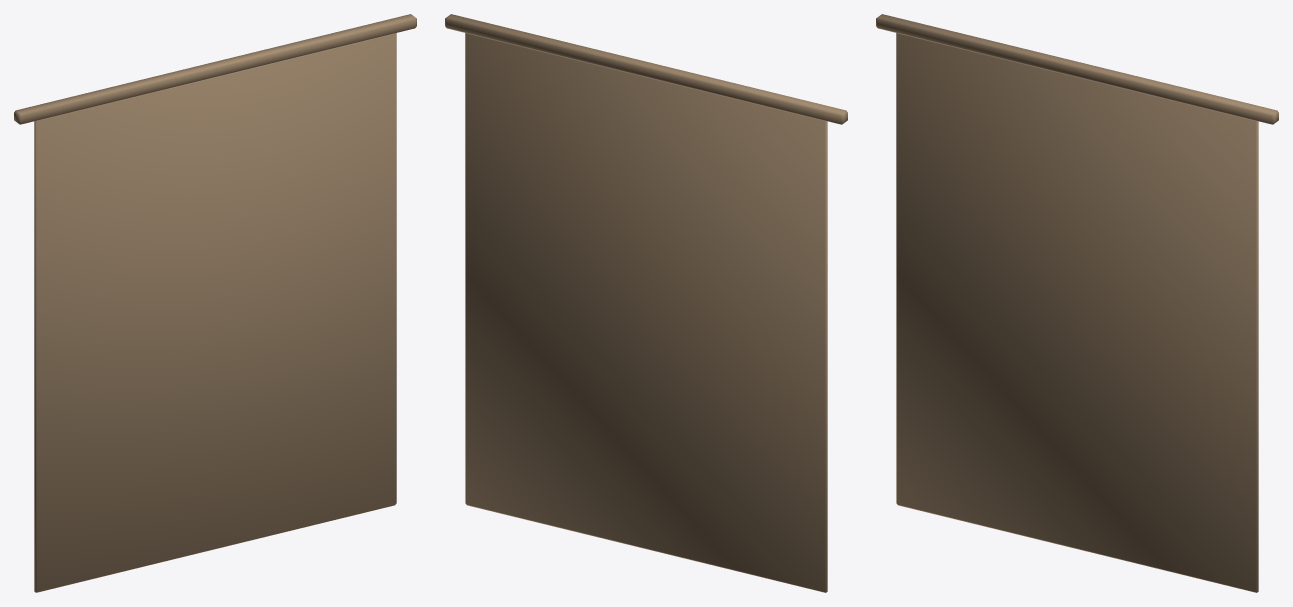
Rendered from tapestry.glb.
3 views of the same model, side by side, from view 1: azimuth 30°, elevation 25°; view 2: azimuth 150°, elevation 25°; view 3: azimuth 330°, elevation 25° (orthographic).
Parts seen in each view (by area): view 1: tapestry; view 2: tapestry; view 3: tapestry.
Part boxes in pixels (x1=…): tapestry: x1=14, y1=14, x2=416, y2=592; tapestry: x1=445, y1=14, x2=847, y2=592; tapestry: x1=876, y1=14, x2=1278, y2=592.
Bounding box in the file's own units: 2.2 × 2.56 × 0.06.
Materials: 1 (1 with a texture image).
